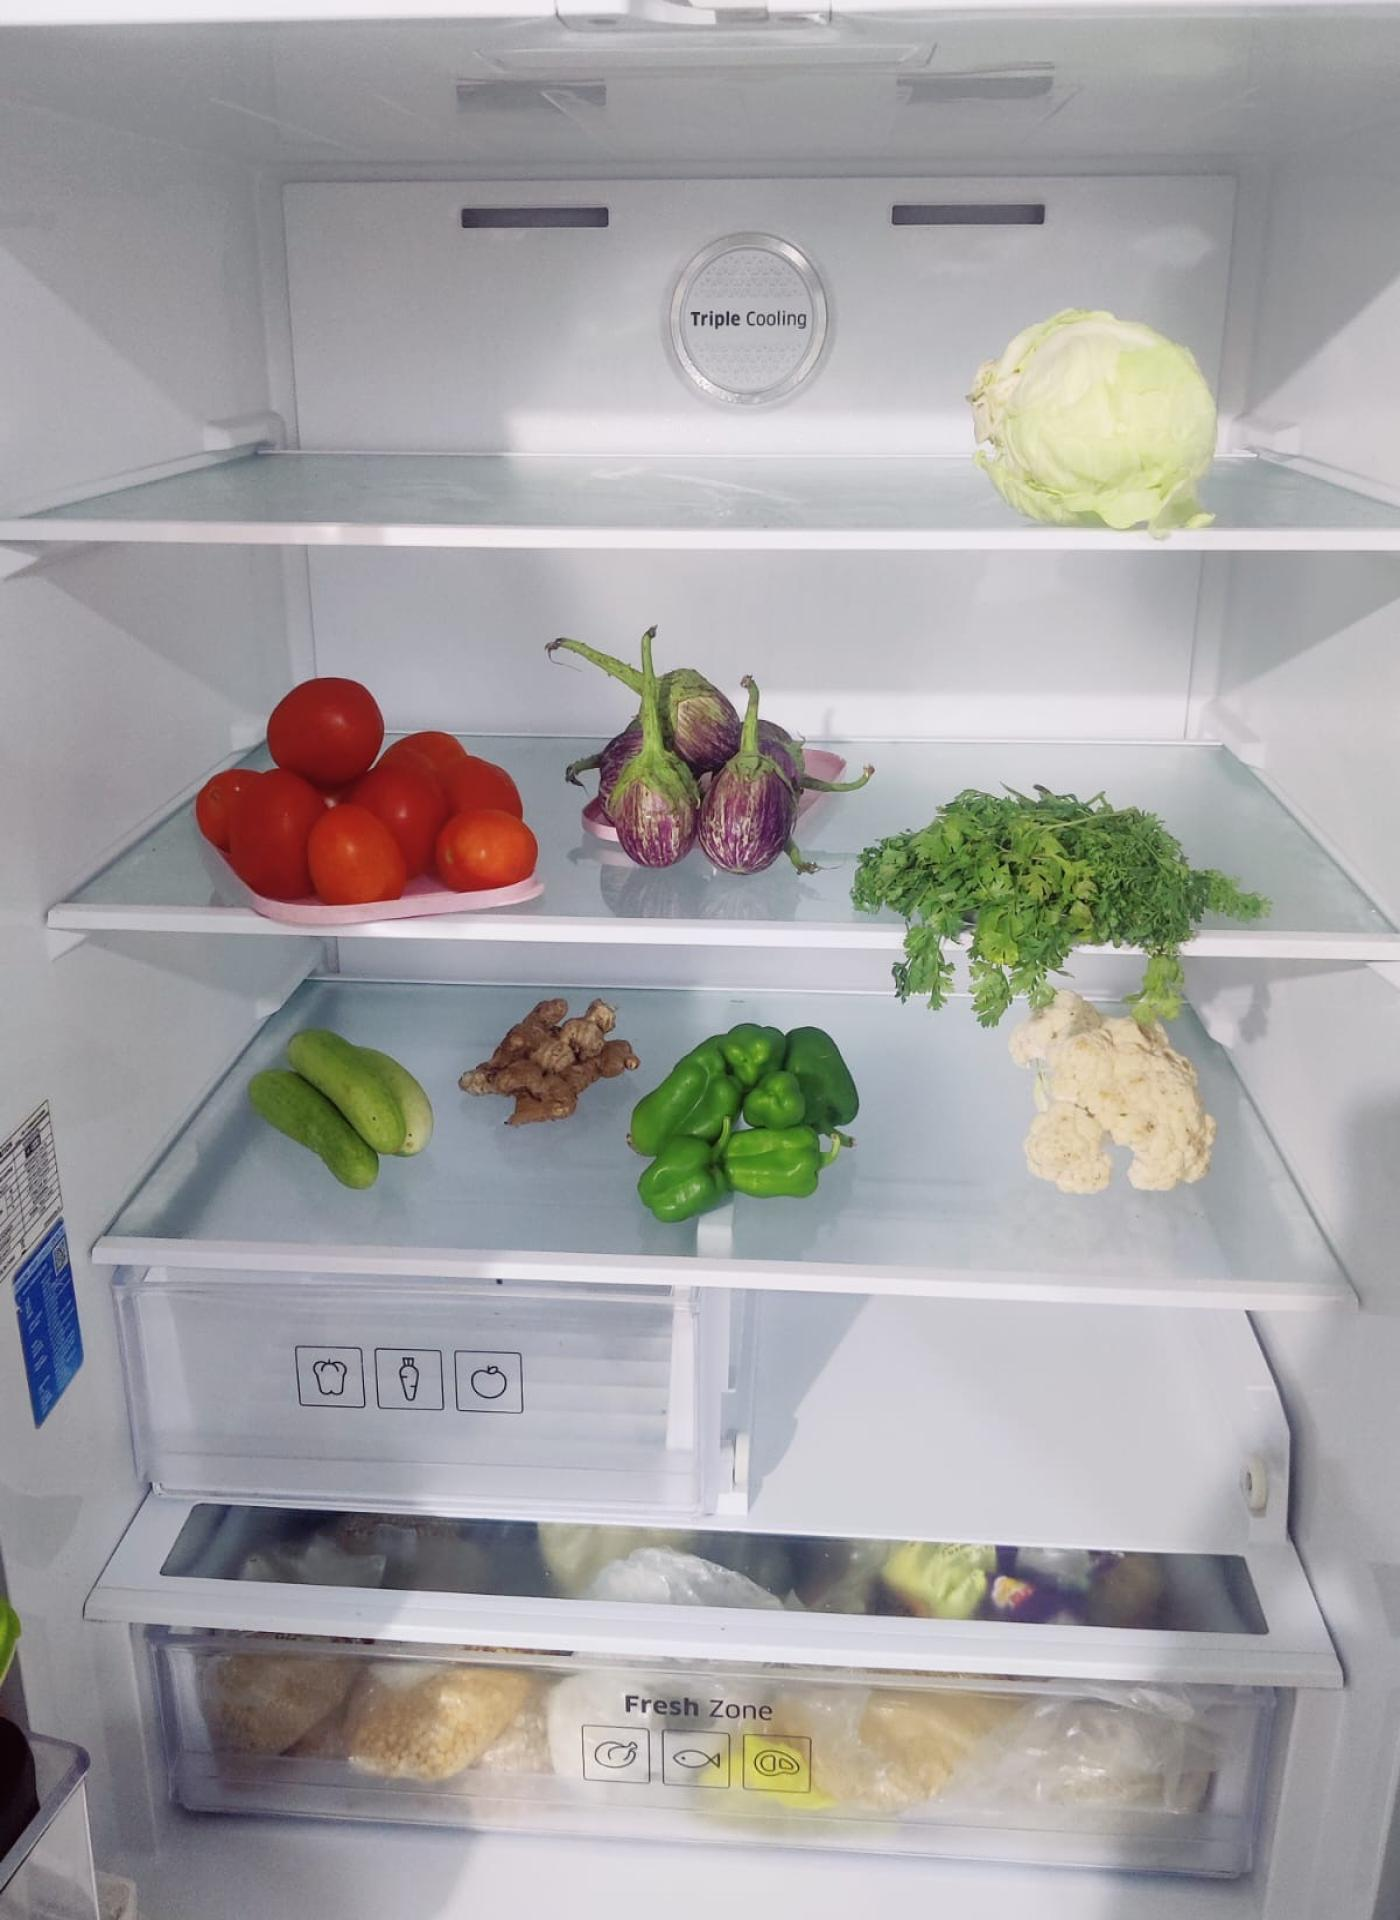brinjal: (602, 660, 810, 865)
cabbage: (972, 301, 1218, 522)
capsicum: (632, 1017, 856, 1212)
cauliflower: (1021, 994, 1218, 1190)
coriander: (860, 787, 1260, 966)
cucumber: (253, 1023, 440, 1184)
ginger: (459, 988, 640, 1124)
tomato: (198, 678, 534, 909)
